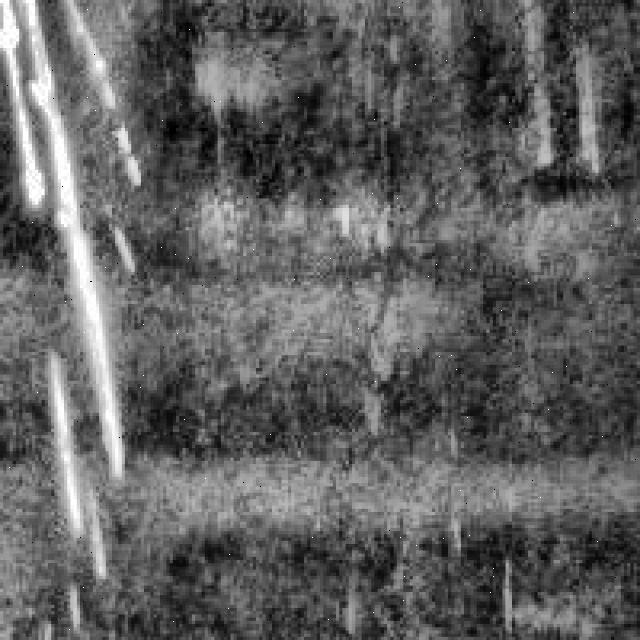Inclusion: (7, 0, 138, 467), (38, 339, 102, 541)
